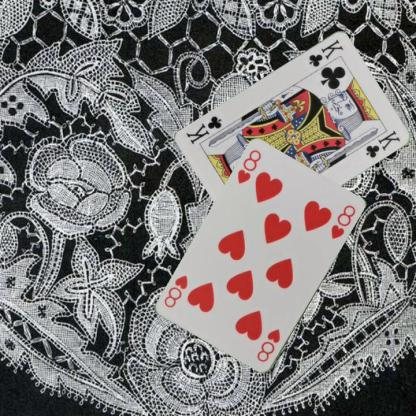8h: (234, 148, 263, 186), (254, 326, 282, 364)
Kc: (306, 36, 345, 68)
